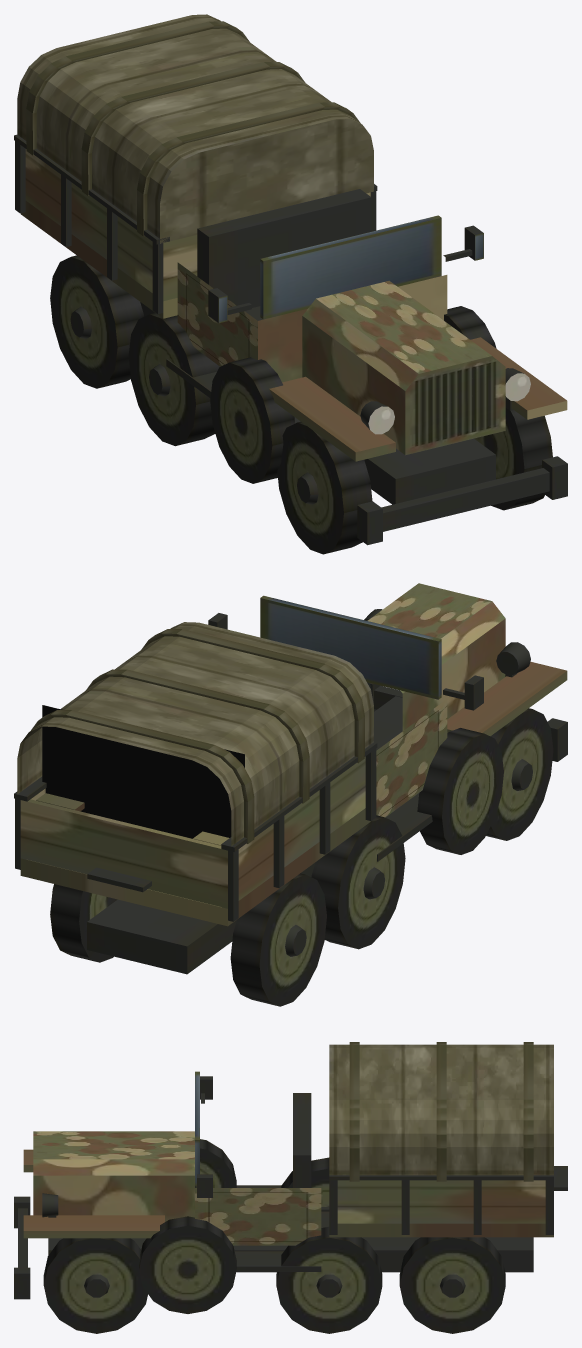
Rendered from landTransport.glb.
3 views of the same model, one above another, from view 1: azimuth 30°, elevation 25°; view 2: azimuth 150°, elevation 25°; view 3: azimuth 270°, elevation 25° (orthographic). The views are drawn at different scales.
Parts seen in each view (by area): view 1: body, tarp, roue_right_1, roue_right_3, roue_right_2, roue_left_1; view 2: body, tarp, fond_sombre, tailgate, roue_right_3, roue_right_2, roue_right_1, roue_left_3; view 3: body, tarp, roue_left_3, roue_left_2, roue_left_1, roue_right_2.
Part boxes in pixels (x1,y1,x2,y2): body: (14,134,567,545); tarp: (17,14,373,243); roue_right_1: (277,421,372,554); roue_right_3: (50,255,143,388); roue_right_2: (128,313,219,446); roue_left_1: (474,408,552,510); body: (14,583,567,974); tarp: (17,622,373,846); fond_sombre: (42,705,244,838); tailgate: (20,799,227,908); roue_right_3: (230,873,326,1006); roue_right_2: (311,815,405,949); roue_right_1: (486,708,553,840); roue_left_3: (50,884,117,962); body: (14,1071,553,1313); tarp: (329,1042,553,1181); roue_left_3: (399,1237,505,1333); roue_left_2: (276,1226,382,1333); roue_left_1: (43,1238,147,1333); roue_right_2: (281,1157,329,1206).
Size of the model in its own units: 2.38 by 2.42 by 5.48.
8 materials, 7 textured.
